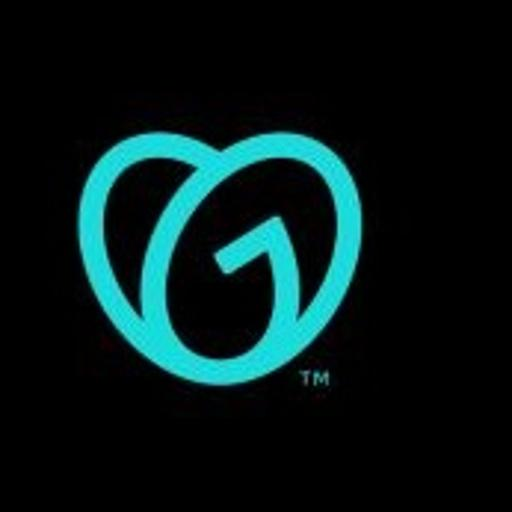GoDaddy: (0, 93, 512, 418)
